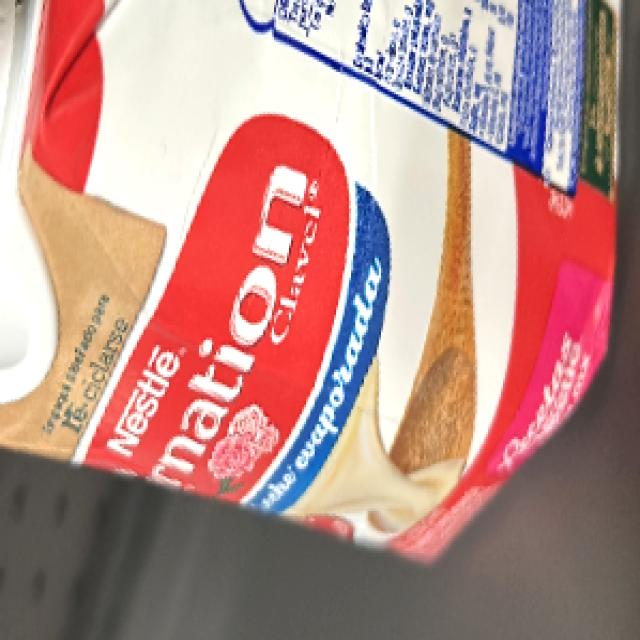nestleCarnation: (1, 1, 577, 478)
